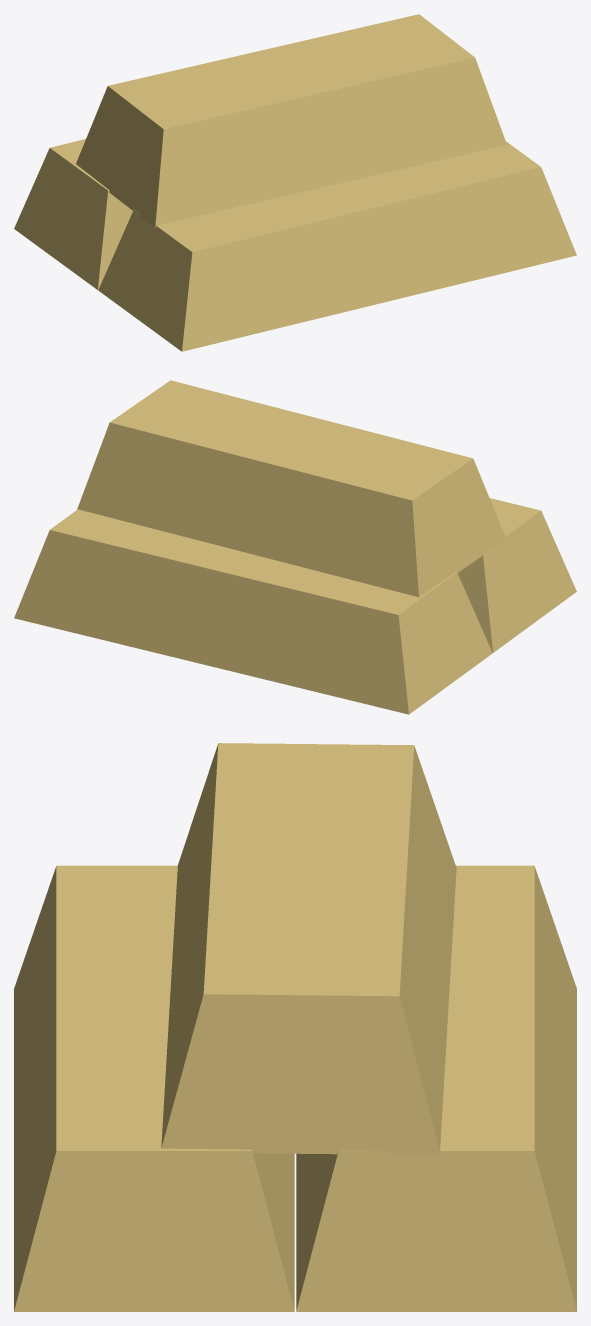
The model's file is SM_GoldBars.fbx.
The picture shows the model from 3 angles, top to bottom: view 1: azimuth 30°, elevation 25°; view 2: azimuth 150°, elevation 25°; view 3: azimuth 270°, elevation 25°; orthographic projection. The views are drawn at different scales.
Parts seen in each view (by area): view 1: GoldBars; view 2: GoldBars; view 3: GoldBars.
Part boxes in pixels (bbox=[...]): GoldBars: bbox=[14, 14, 576, 351]; GoldBars: bbox=[14, 380, 576, 714]; GoldBars: bbox=[14, 743, 576, 1311].
Size of the model in its own units: 36.93 by 14.96 by 27.21.
